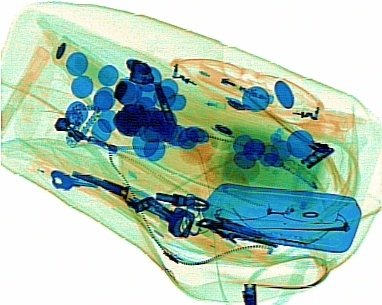lighter: (191, 60, 273, 105)
